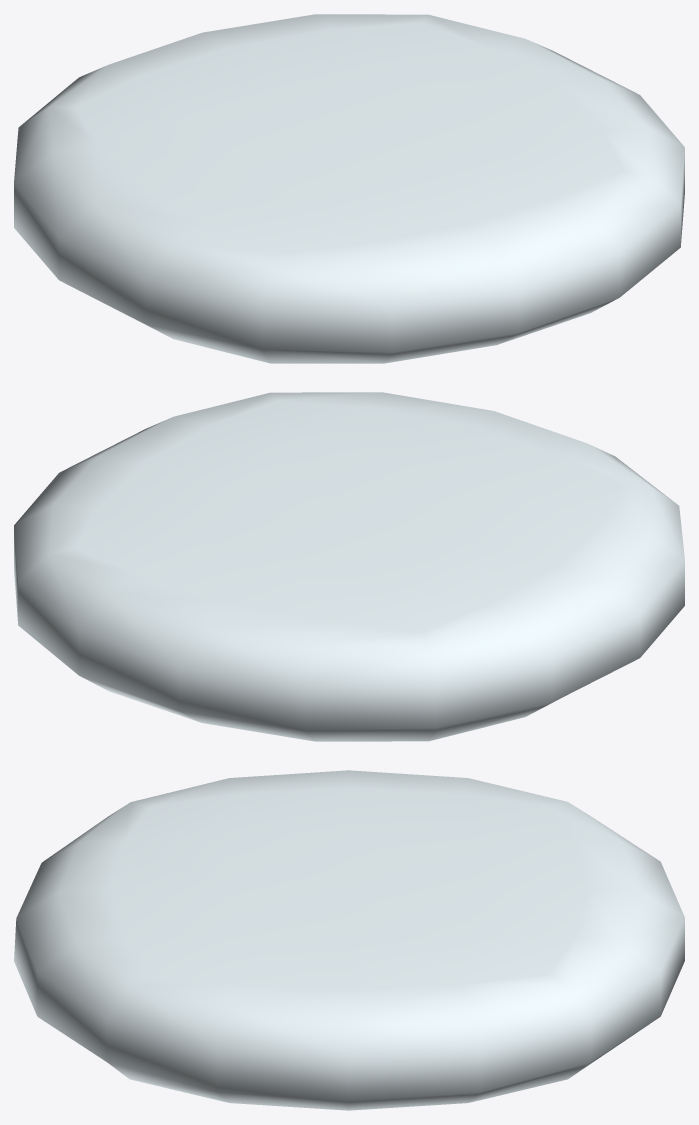
File: candy_assets36.fbx
The picture shows the model from 3 angles, top to bottom: view 1: azimuth 30°, elevation 25°; view 2: azimuth 150°, elevation 25°; view 3: azimuth 270°, elevation 25°; orthographic projection.
Visible parts, largest first — view 1: candy_assets36; view 2: candy_assets36; view 3: candy_assets36.
Part boxes in pixels (<box>): candy_assets36: <box>14,14,684,363</box>; candy_assets36: <box>14,392,684,741</box>; candy_assets36: <box>14,770,684,1110</box>.
Bounding box in the file's own units: 441 × 78.87 × 445.
Materials: 1 (1 with a texture image).
